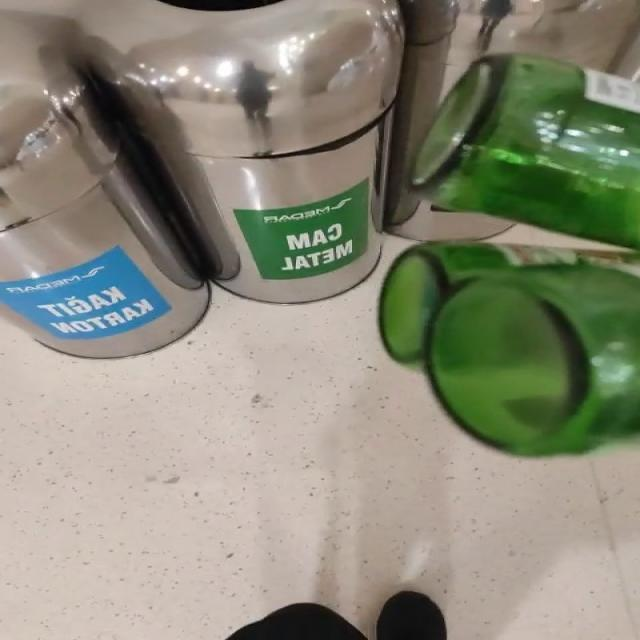bin: (1, 0, 405, 357)
glass: (380, 244, 639, 456), (413, 53, 639, 248)
